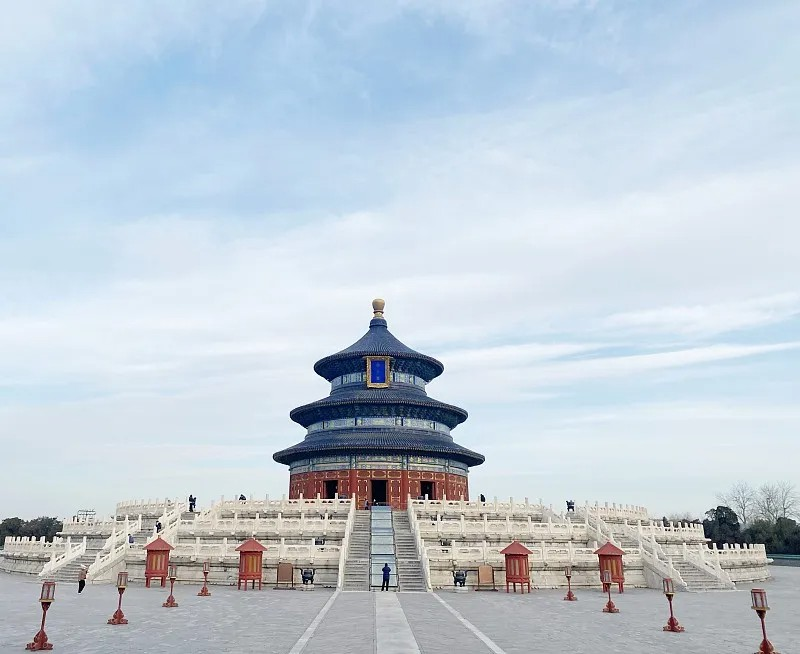Heaven: (271, 297, 485, 509)
